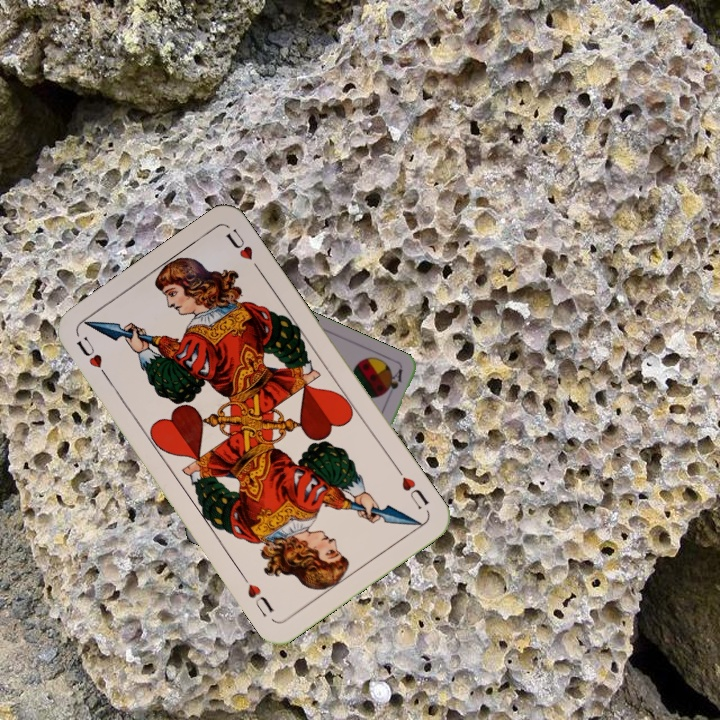HU: (72, 333, 113, 383), (392, 463, 431, 512)
